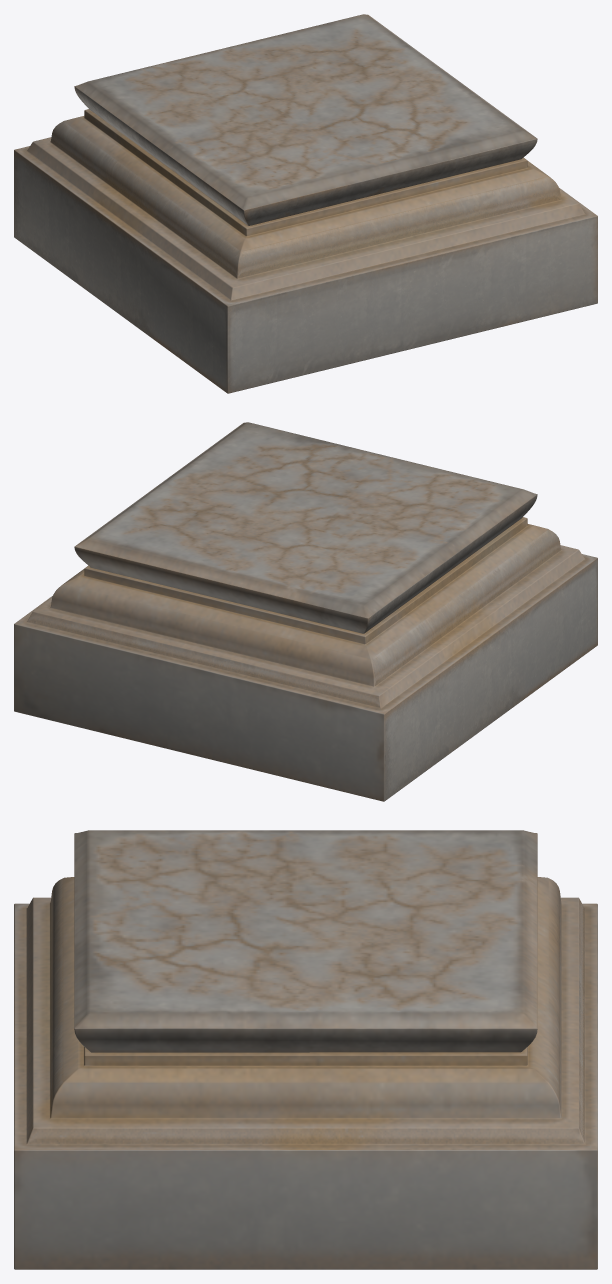
Rendered from stend.gltf.
The picture shows the model from 3 angles, top to bottom: view 1: azimuth 30°, elevation 25°; view 2: azimuth 150°, elevation 25°; view 3: azimuth 270°, elevation 25°; orthographic projection. The views are drawn at different scales.
Parts seen in each view (by area): view 1: Pedestal.001; view 2: Pedestal.001; view 3: Pedestal.001.
Boxes of the visible parts, box(x1,y1,x2,y2) form: Pedestal.001: box(14, 14, 597, 393); Pedestal.001: box(14, 422, 597, 801); Pedestal.001: box(14, 830, 597, 1269).
Bounding box in the file's own units: 2 × 0.8493 × 2.
Materials: 1 (1 with a texture image).
